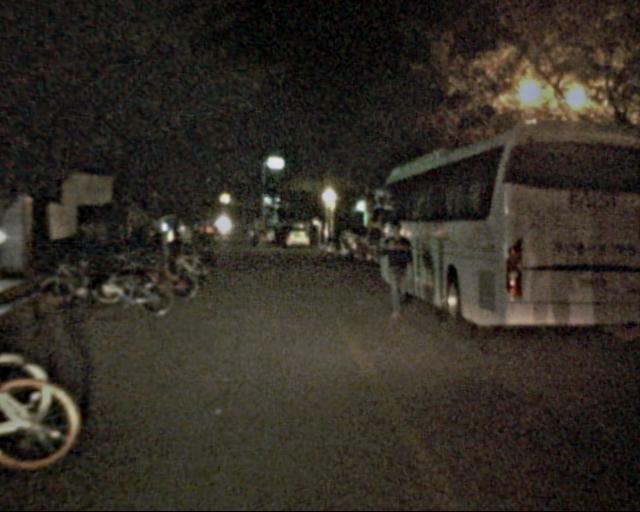person: (379, 224, 419, 322), (171, 215, 199, 279)
